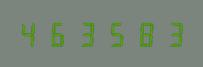eight: (130, 20, 157, 47)
five: (102, 20, 129, 47)
four: (17, 20, 44, 47)
six: (45, 20, 72, 47)
three: (74, 20, 101, 47), (158, 20, 185, 47)
